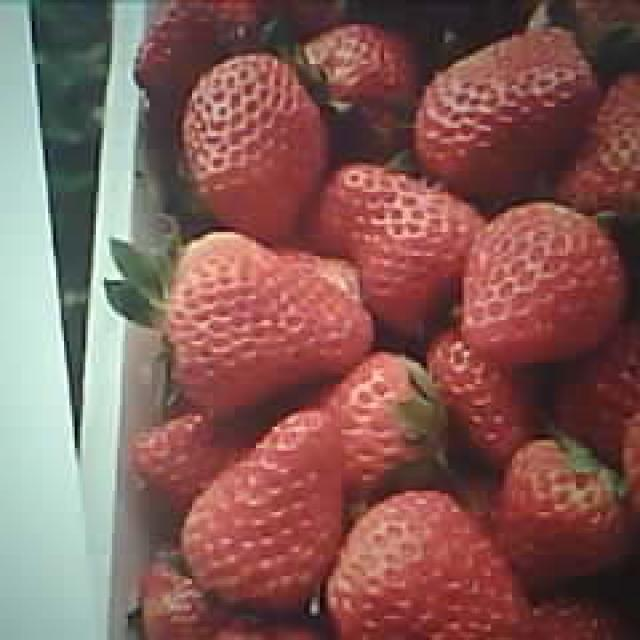strawberry: (168, 236, 375, 406), (181, 412, 349, 614), (409, 29, 601, 186), (180, 51, 330, 232), (467, 200, 625, 356)
